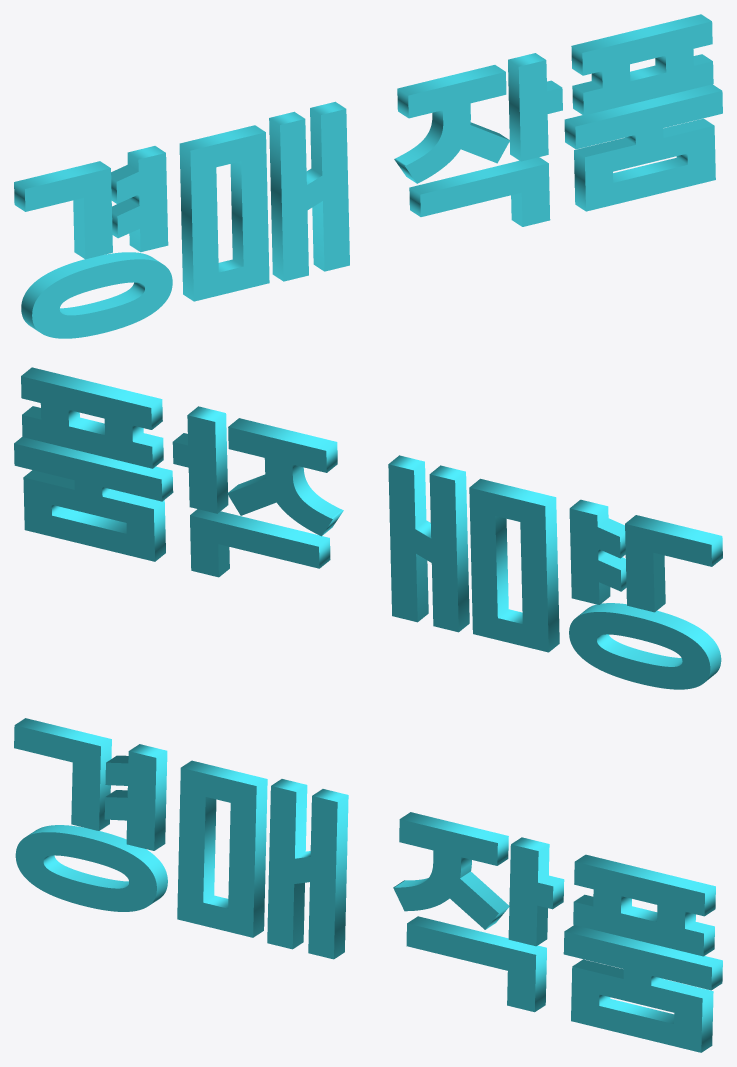
3 renders of one model, top to bottom at view 1: azimuth 30°, elevation 25°; view 2: azimuth 150°, elevation 25°; view 3: azimuth 330°, elevation 25°, orthographic.
Parts seen in each view (by area): view 1: 텍스트.001; view 2: 텍스트.001; view 3: 텍스트.001.
Part boxes in pixels (box(x1,y1,x2,y2)): 텍스트.001: box(14, 14, 722, 338); 텍스트.001: box(14, 367, 722, 689); 텍스트.001: box(14, 718, 722, 1052).
Size of the model in its own units: 3.32 by 0.7381 by 0.1219.
